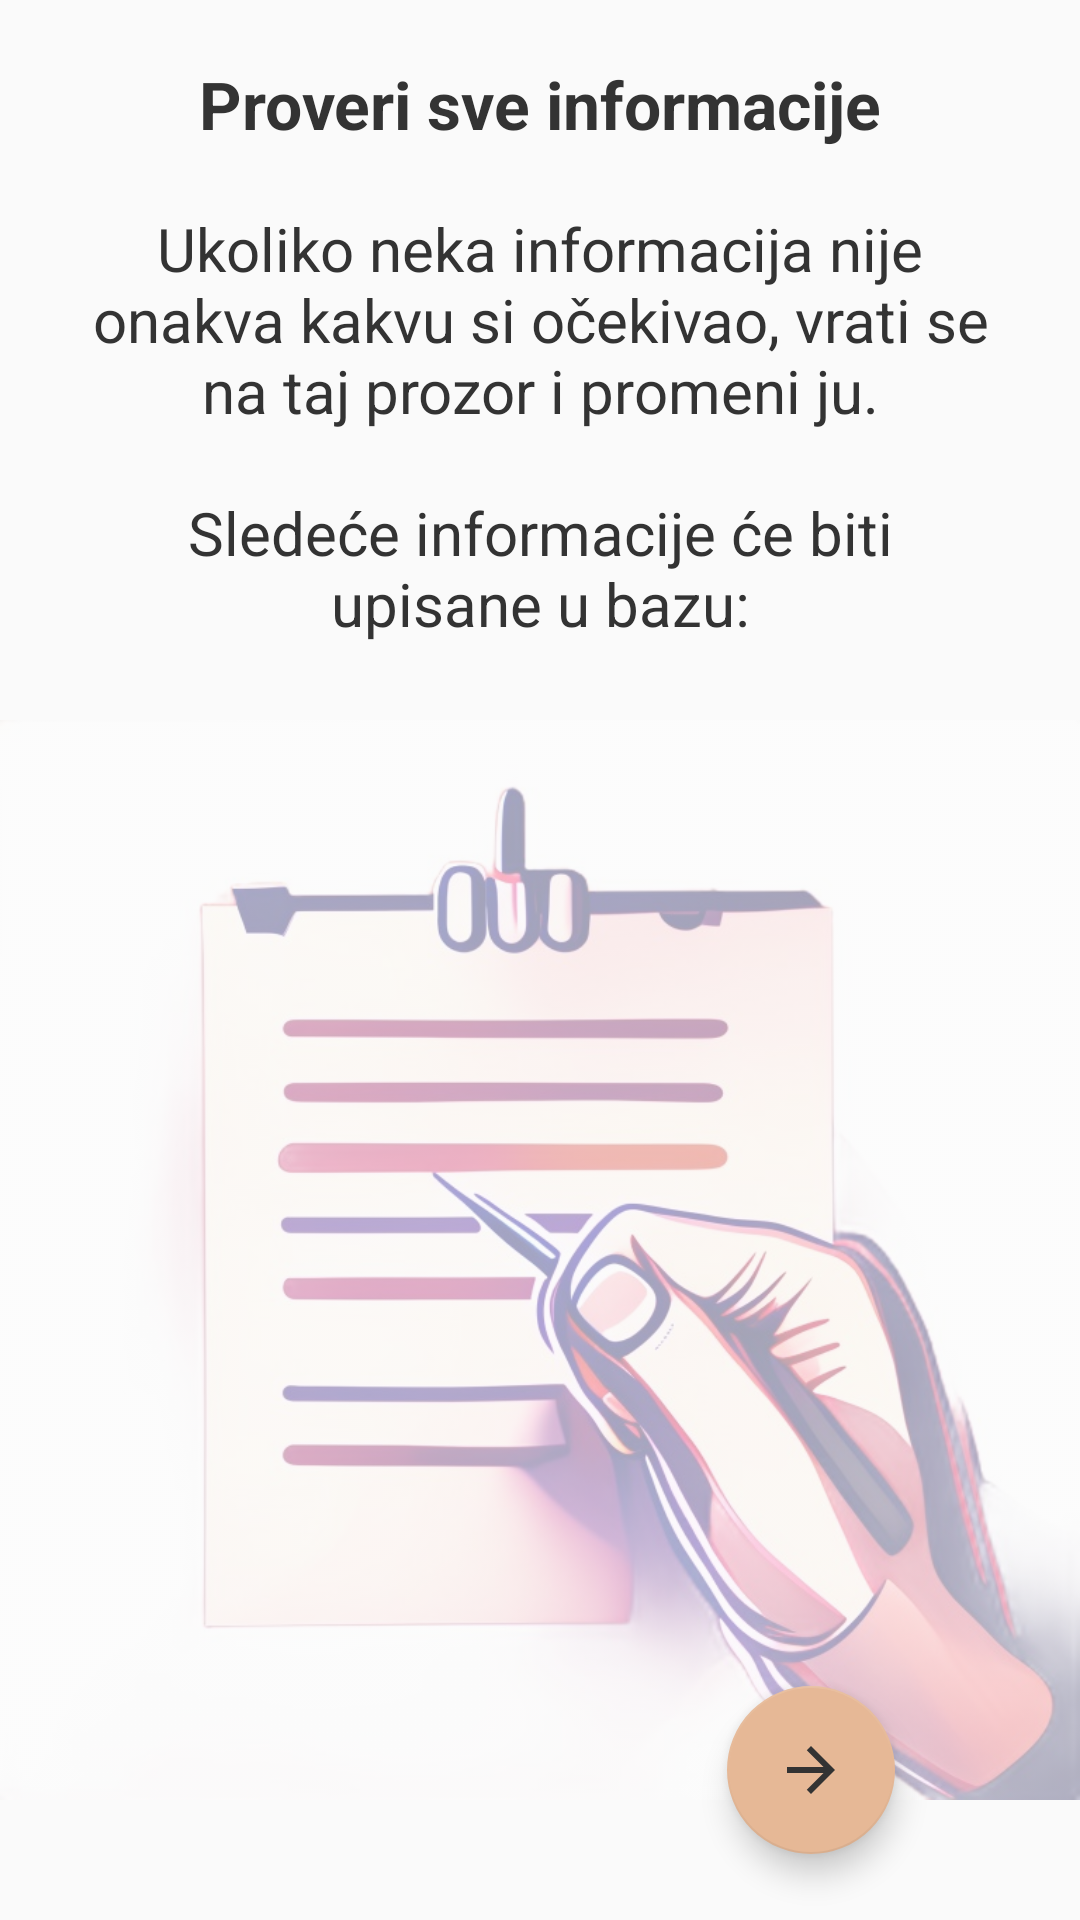

Named icons in this screenshot (1080*1920) and their centers, point (x, y):
arrow forward: point (811, 1770)
